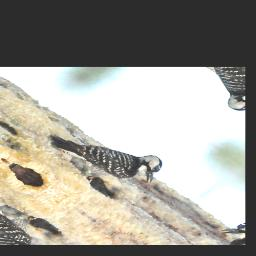Woodpecker: (36, 109, 175, 203)
